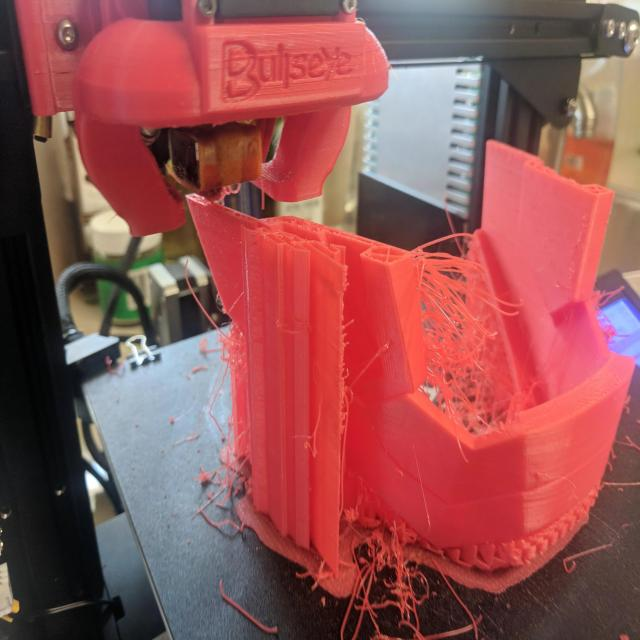Stringing: (185, 266, 256, 549), (332, 528, 458, 628), (426, 245, 500, 412)
